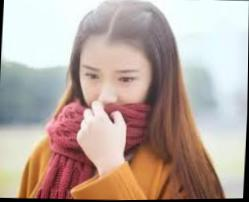WRONG: (78, 56, 151, 129)
